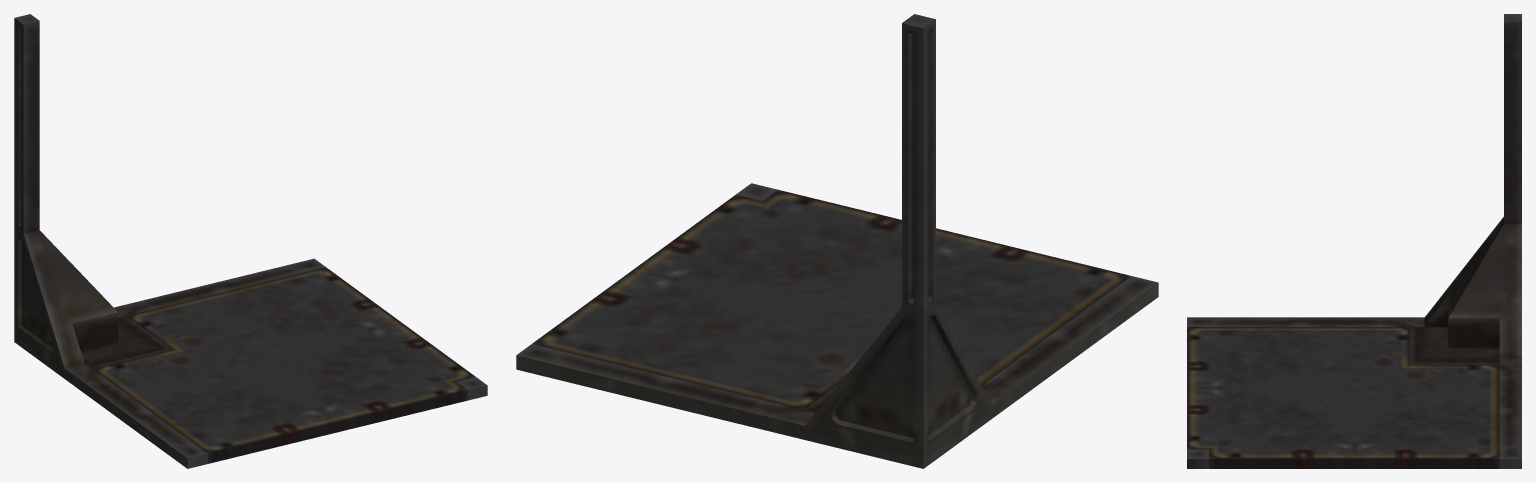
The model's file is Wall-Floor_22_Corner_out_2.FBX.
The picture shows the model from 3 angles, left to right: view 1: azimuth 30°, elevation 25°; view 2: azimuth 150°, elevation 25°; view 3: azimuth 270°, elevation 25°; orthographic projection. The views are drawn at different scales.
Parts seen in each view (by area): view 1: Wall-Floor_22; view 2: Wall-Floor_22; view 3: Wall-Floor_22.
Boxes of the visible parts, <box> form: Wall-Floor_22: <box>14,14,487,468</box>; Wall-Floor_22: <box>516,14,1158,468</box>; Wall-Floor_22: <box>1187,14,1521,468</box>.
Bounding box in the file's own units: 300 × 310 × 300.
